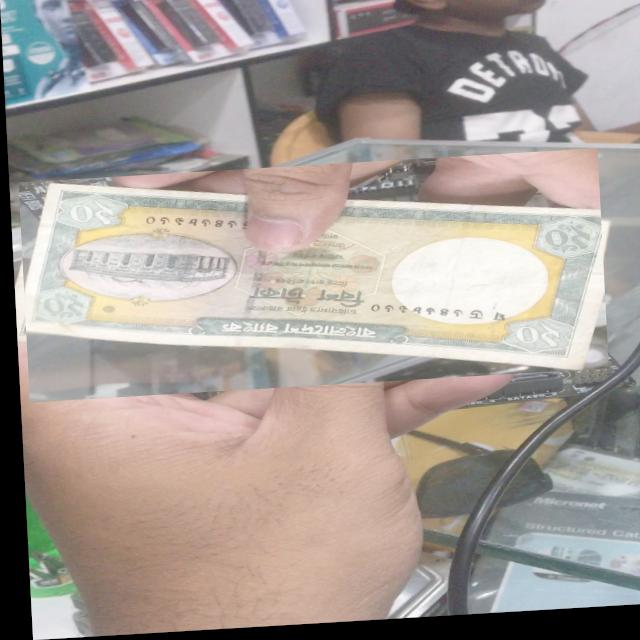Taka: (16, 156, 604, 403)
